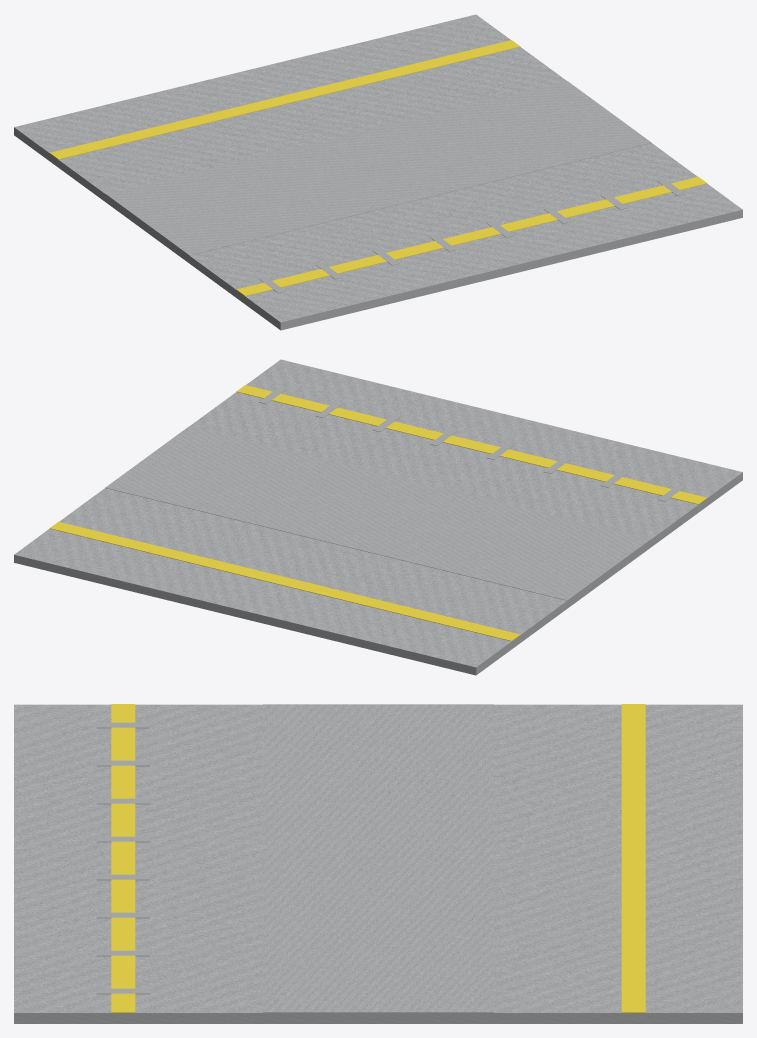
File: floor-tile-walkway.glb
3 views of the same model, one above another, from view 1: azimuth 30°, elevation 25°; view 2: azimuth 150°, elevation 25°; view 3: azimuth 270°, elevation 25° (orthographic). The views are drawn at different scales.
Parts seen in each view (by area): view 1: floor-tile-walkway; view 2: floor-tile-walkway; view 3: floor-tile-walkway.
Part boxes in pixels (x1=…): floor-tile-walkway: x1=14, y1=14, x2=742, y2=330; floor-tile-walkway: x1=14, y1=359, x2=742, y2=675; floor-tile-walkway: x1=14, y1=704, x2=742, y2=1023.
Size of the model in its own units: 6 by 0.1062 by 6.
Materials: 2 (1 with a texture image).
